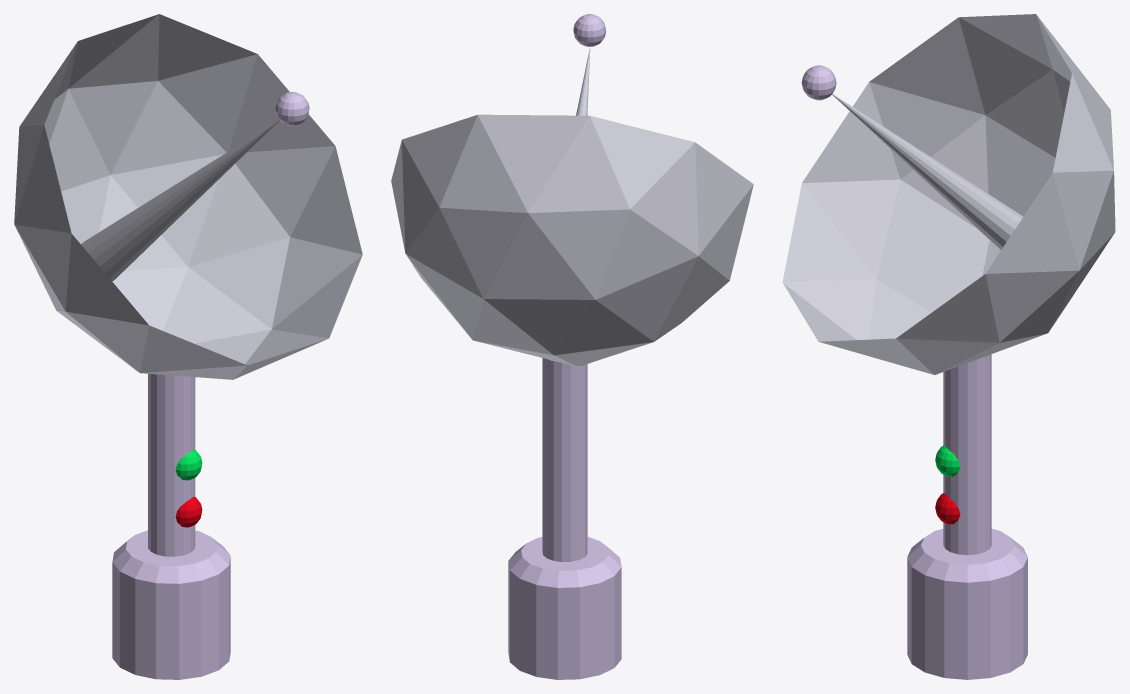
The model's file is Antena.fbx.
The picture shows the model from 3 angles, left to right: view 1: azimuth 30°, elevation 25°; view 2: azimuth 150°, elevation 25°; view 3: azimuth 270°, elevation 25°; orthographic projection. The views are drawn at different scales.
Parts seen in each view (by area): view 1: Cylinder; view 2: Cylinder; view 3: Cylinder.
Boxes of the visible parts, x1=… form: Cylinder: x1=14, y1=14, x2=362, y2=679; Cylinder: x1=391, y1=14, x2=753, y2=679; Cylinder: x1=782, y1=14, x2=1115, y2=679.
Bounding box in the file's own units: 628 × 1127 × 557.
